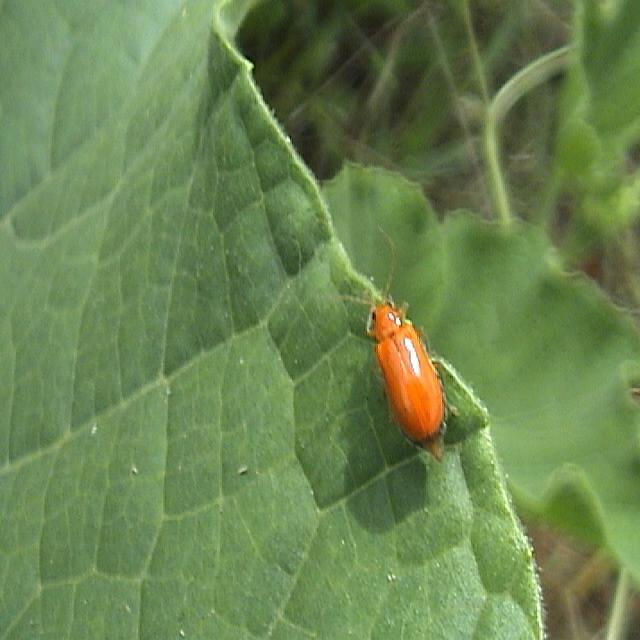Pumpkin Beetle: (309, 207, 465, 482)
